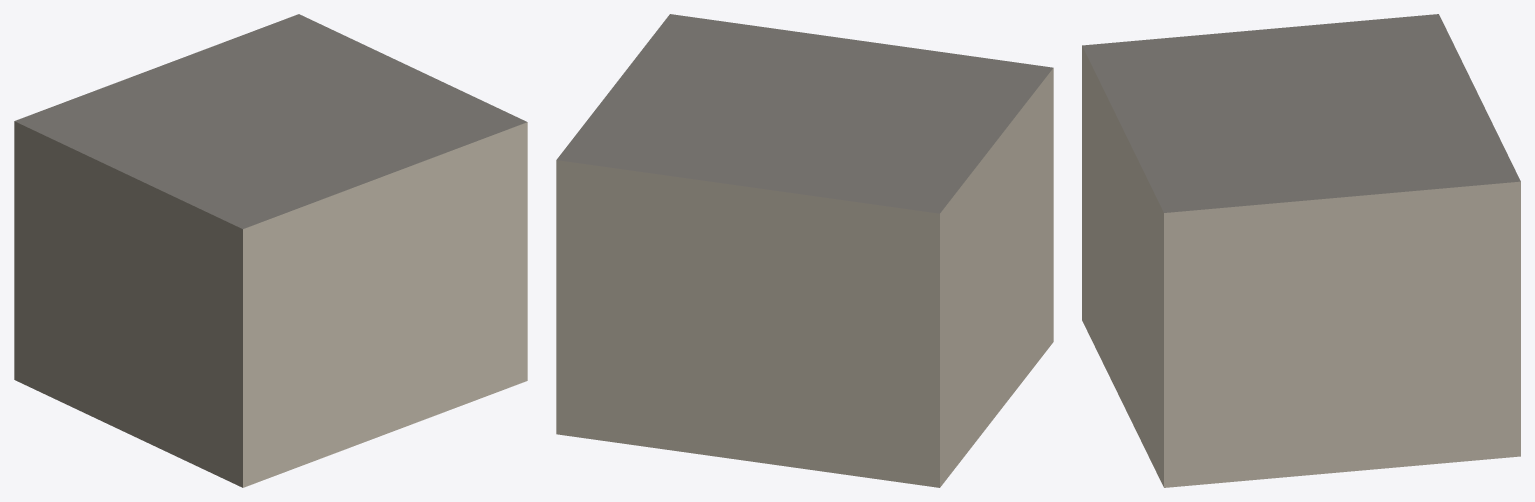
3 views of the same model, side by side, from view 1: azimuth 30°, elevation 25°; view 2: azimuth 150°, elevation 25°; view 3: azimuth 270°, elevation 25° (orthographic). The views are drawn at different scales.
Parts seen in each view (by area): view 1: HP-w1286965203; view 2: HP-w1286965203; view 3: HP-w1286965203.
Boxes of the visible parts, x1=… form: HP-w1286965203: x1=14, y1=14, x2=527, y2=487; HP-w1286965203: x1=556, y1=14, x2=1053, y2=487; HP-w1286965203: x1=1082, y1=14, x2=1520, y2=487.
Size of the model in its own units: 27.96 by 18 by 26.04.
